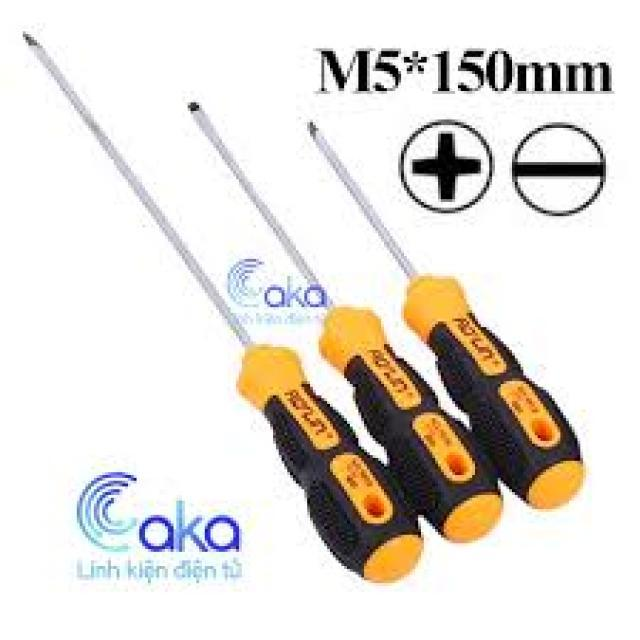screwdriver: (22, 29, 426, 590), (184, 98, 506, 548), (303, 118, 593, 519)
